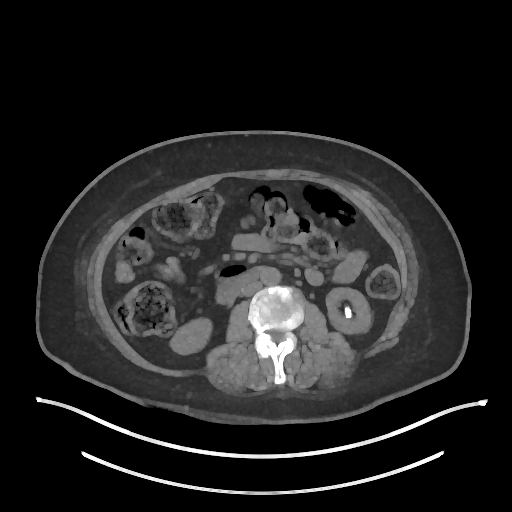Lesion: (339, 301, 358, 325)
